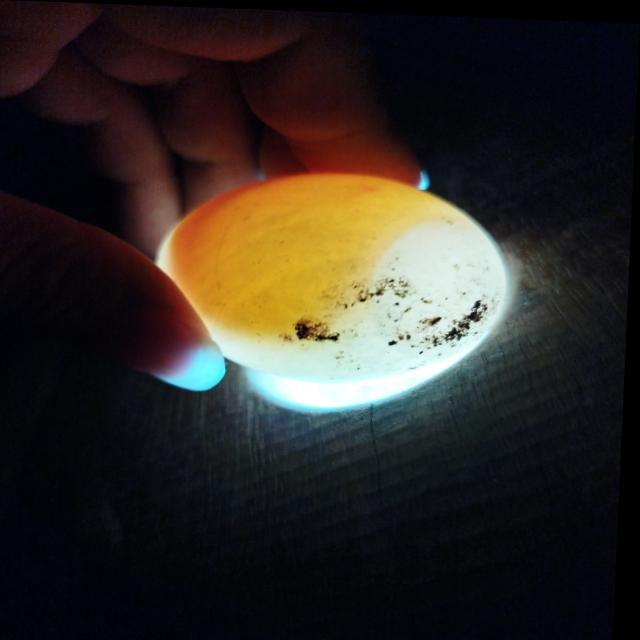Camara de Ar: (370, 222, 508, 370)
Gema Quebrada: (176, 168, 354, 311)
